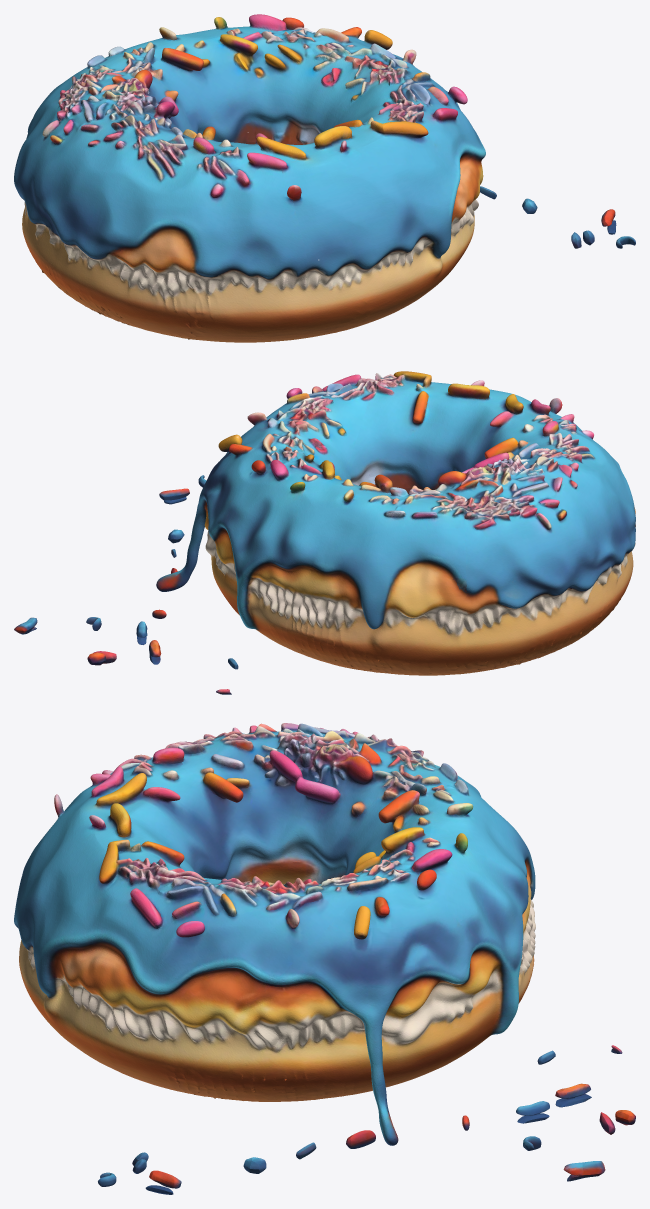
File: blue-donut.glb
The picture shows the model from 3 angles, top to bottom: view 1: azimuth 30°, elevation 25°; view 2: azimuth 150°, elevation 25°; view 3: azimuth 270°, elevation 25°; orthographic projection. The views are drawn at different scales.
Parts seen in each view (by area): view 1: tripo_node_844e76a0-36a0-4908-b1cc-942dc0126365; view 2: tripo_node_844e76a0-36a0-4908-b1cc-942dc0126365; view 3: tripo_node_844e76a0-36a0-4908-b1cc-942dc0126365.
Part boxes in pixels (x1=…): tripo_node_844e76a0-36a0-4908-b1cc-942dc0126365: x1=14, y1=14, x2=635, y2=342; tripo_node_844e76a0-36a0-4908-b1cc-942dc0126365: x1=14, y1=371, x2=635, y2=694; tripo_node_844e76a0-36a0-4908-b1cc-942dc0126365: x1=14, y1=723, x2=635, y2=1194.
Size of the model in its own units: 0.9994 by 0.3573 by 0.8882.
Materials: 1 (1 with a texture image).
